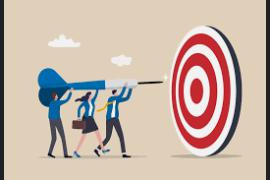bulls eye: (168, 27, 237, 161)
